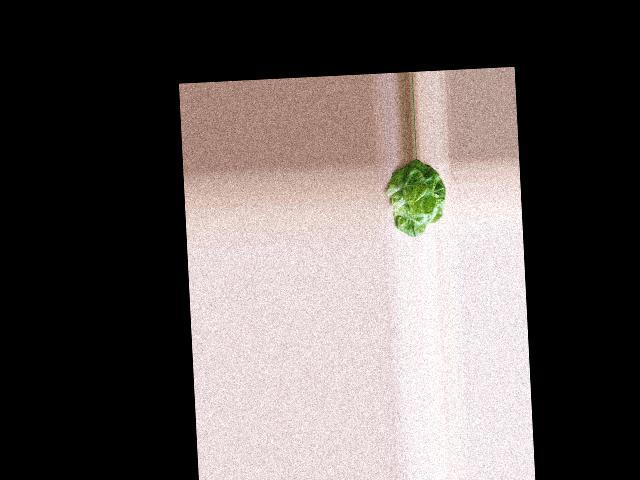lettuce: (386, 159, 447, 236)
